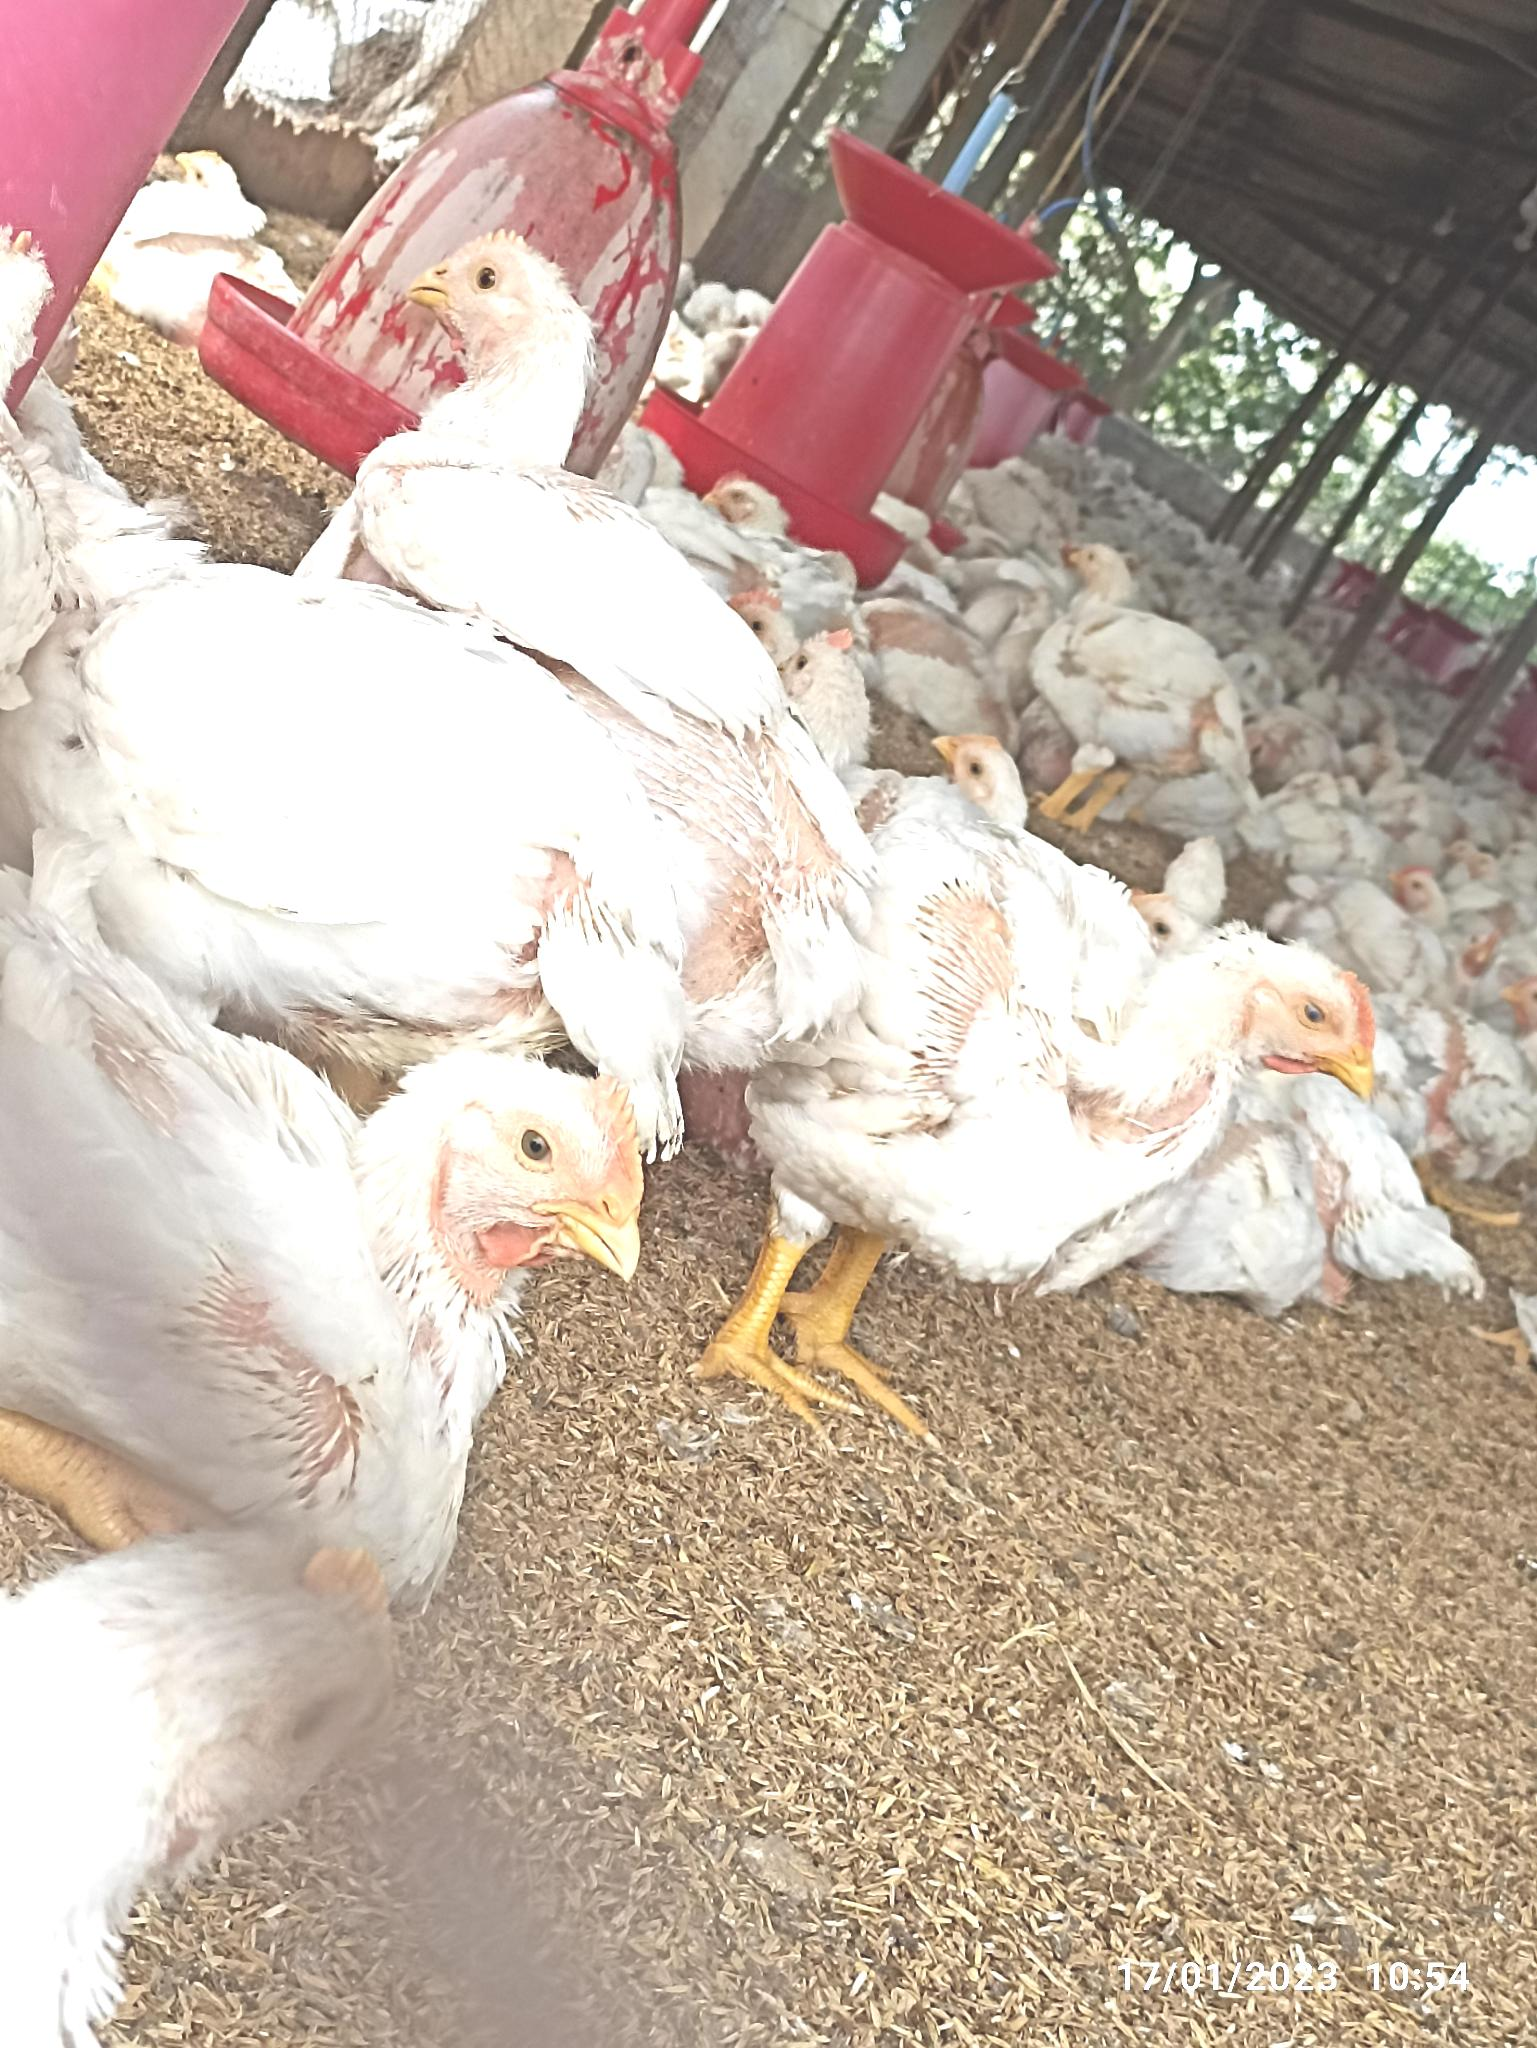Pollos: (2, 1038, 641, 1443), (350, 224, 748, 720), (752, 918, 1384, 1206), (1027, 533, 1245, 773)
